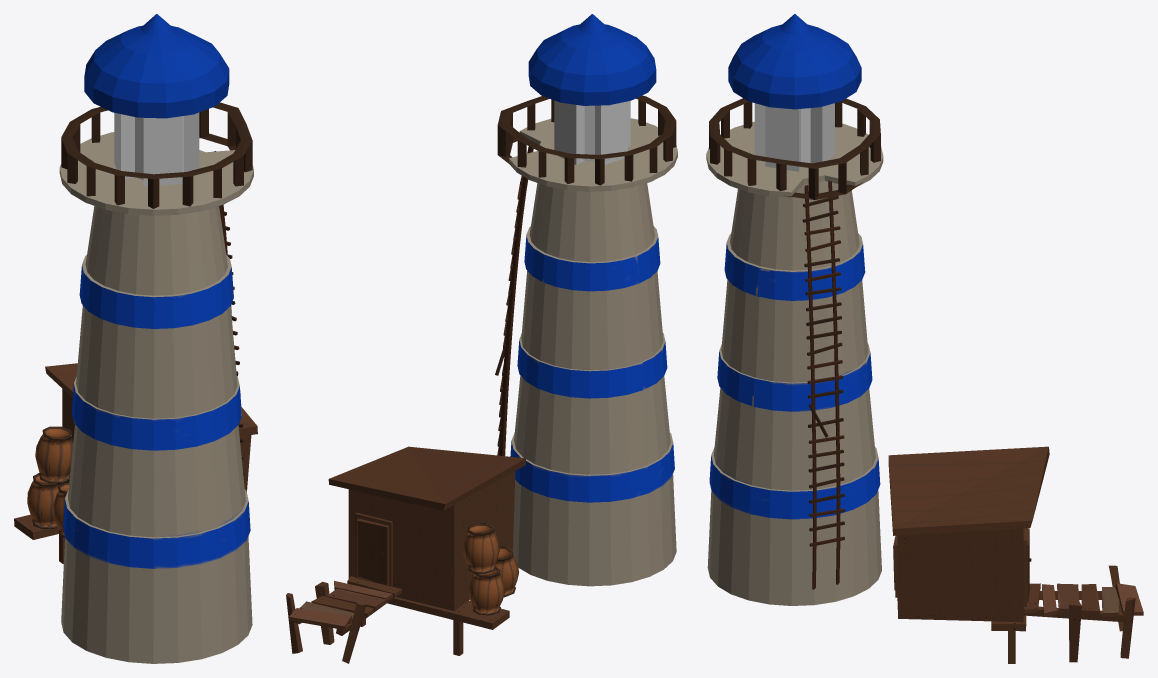
Rendered from svetilnik 1.fbx.
The picture shows the model from 3 angles, left to right: view 1: azimuth 30°, elevation 25°; view 2: azimuth 150°, elevation 25°; view 3: azimuth 270°, elevation 25°; orthographic projection. The views are drawn at different scales.
Parts seen in each view (by area): view 1: Cylinder_003, Cylinder_006, Cylinder_005, Cylinder_004, Cube_017, Cylinder_002, Cylinder, Cube_016, Cylinder_001; view 2: Cylinder_003, Cube_017, Cylinder_006, Cube_016, Cylinder_005, Cylinder_004, BezierCurve, Cylinder_002, Cylinder, Cylinder_001; view 3: Cylinder_003, Cube_017, Cylinder_006, Cube_016, Cylinder_005, Cylinder_004, BezierCurve, BezierCurve_001.
Part boxes in pixels (box(x1,y1,x2,y2)): Cylinder_003: box(59, 132, 253, 663); Cylinder_006: box(84, 14, 229, 118); Cylinder_005: box(61, 102, 252, 208); Cylinder_004: box(114, 112, 199, 186); Cube_017: box(45, 363, 257, 492); Cylinder_002: box(35, 426, 72, 483); Cylinder: box(27, 473, 62, 528); Cube_016: box(14, 514, 64, 563); Cylinder_001: box(53, 482, 69, 537); Cylinder_003: box(509, 118, 677, 586); Cube_017: box(328, 446, 525, 611); Cylinder_006: box(528, 14, 656, 105); Cube_016: box(286, 576, 509, 663); Cylinder_005: box(497, 95, 676, 185); Cylinder_004: box(554, 100, 630, 165); BezierCurve: box(498, 176, 528, 455); Cylinder_002: box(463, 523, 499, 573); Cylinder: box(468, 567, 504, 615); Cylinder_001: box(495, 546, 518, 597); Cylinder_003: box(706, 121, 883, 605); Cube_017: box(888, 446, 1049, 622); Cylinder_006: box(728, 14, 861, 109); Cube_016: box(991, 565, 1143, 663); Cylinder_005: box(709, 98, 880, 199); Cylinder_004: box(754, 103, 834, 171); BezierCurve: box(828, 180, 840, 584); BezierCurve_001: box(804, 185, 816, 589).
Bounding box in the file's own units: 30.3 × 73.44 × 49.59.
Materials: 12 (7 with a texture image).
